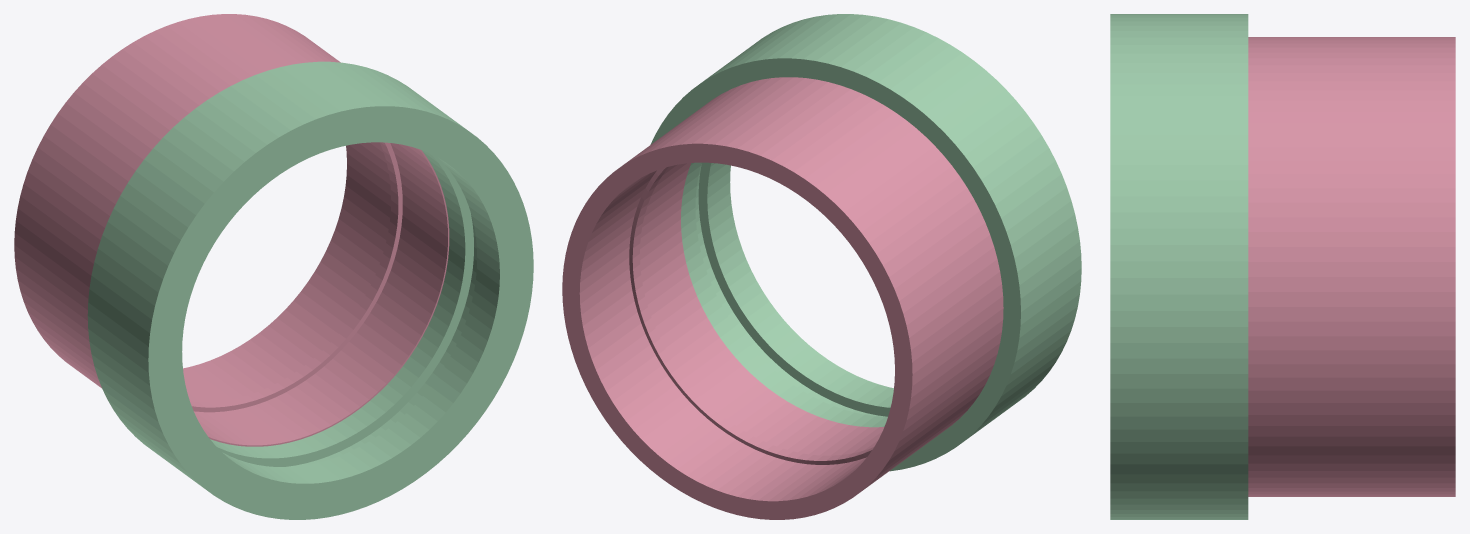
The model's file is annular_snap_demo.glb.
3 views of the same model, side by side, from view 1: azimuth 30°, elevation 25°; view 2: azimuth 150°, elevation 25°; view 3: azimuth 270°, elevation 25° (orthographic). The views are drawn at different scales.
Visible parts, largest first — view 1: outer, inner; view 2: inner, outer; view 3: inner, outer.
Boxes of the visible parts, bbox=[...] form: outer: bbox=[87, 61, 533, 519]; inner: bbox=[14, 14, 449, 446]; inner: bbox=[562, 77, 1003, 519]; outer: bbox=[650, 14, 1081, 471]; inner: bbox=[1248, 37, 1455, 496]; outer: bbox=[1110, 14, 1248, 519].
Bounding box in the file's own units: 44 × 44 × 30.
